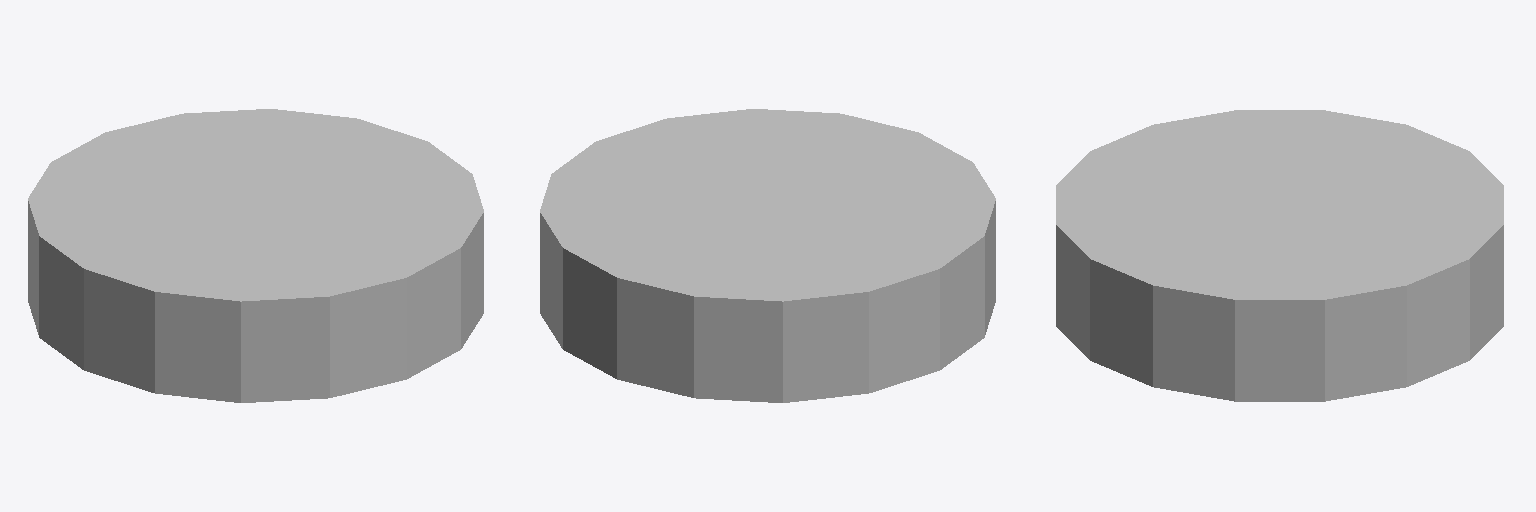
Rendered from large.obj.
3 renders of one model, left to right at view 1: azimuth 30°, elevation 25°; view 2: azimuth 150°, elevation 25°; view 3: azimuth 270°, elevation 25°, orthographic.
Parts seen in each view (by area): view 1: cube; view 2: cube; view 3: cube.
Part boxes in pixels (left/top/right/bottom): cube: left=28, top=109, right=483, bottom=402; cube: left=540, top=109, right=995, bottom=402; cube: left=1056, top=110, right=1503, bottom=401.
Size of the model in its own units: 4 by 1 by 4.